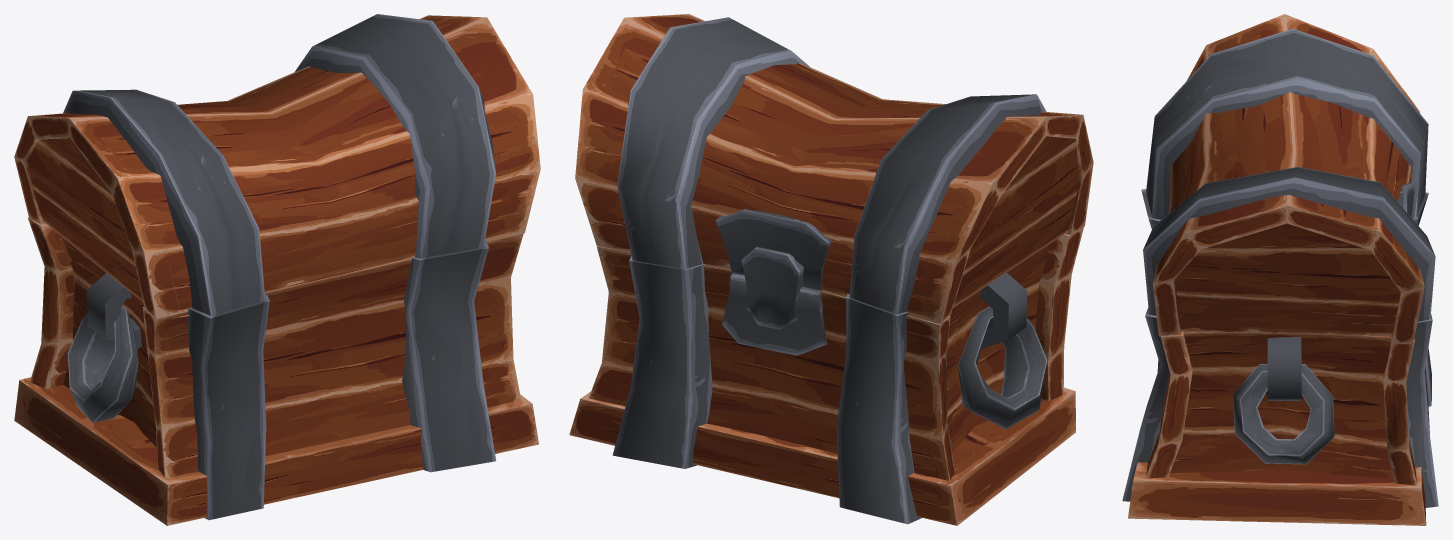
File: SM_PROP_treasurechest.fbx
3 renders of one model, left to right at view 1: azimuth 30°, elevation 25°; view 2: azimuth 150°, elevation 25°; view 3: azimuth 270°, elevation 25°, orthographic. The views are drawn at different scales.
Visible parts, largest first — view 1: SM_PROP_treasurechest_top, SM_PROP_treasurechest; view 2: SM_PROP_treasurechest_top, SM_PROP_treasurechest; view 3: SM_PROP_treasurechest_top, SM_PROP_treasurechest.
Part boxes in pixels (left/top/right/bottom): SM_PROP_treasurechest_top: left=14, top=14, right=540, bottom=318; SM_PROP_treasurechest: left=14, top=217, right=538, bottom=525; SM_PROP_treasurechest_top: left=575, top=14, right=1093, bottom=329; SM_PROP_treasurechest: left=569, top=227, right=1083, bottom=525; SM_PROP_treasurechest_top: left=1143, top=14, right=1435, bottom=343; SM_PROP_treasurechest: left=1122, top=189, right=1438, bottom=525.
Bounding box in the file's own units: 81.65 × 70.09 × 57.69.
